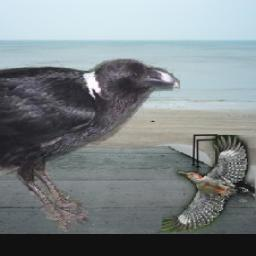Crow: (0, 58, 180, 232)
Woodpecker: (162, 135, 255, 232)
